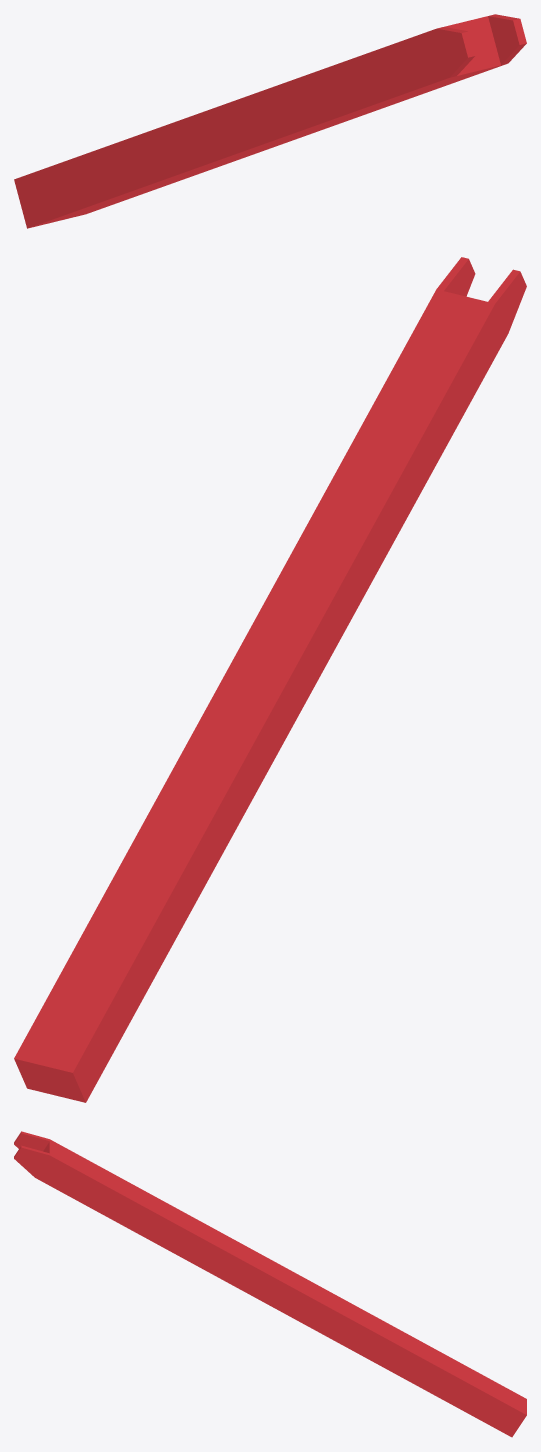
The model's file is crane-docks-arm-back.glb.
The picture shows the model from 3 angles, top to bottom: view 1: azimuth 30°, elevation 25°; view 2: azimuth 150°, elevation 25°; view 3: azimuth 270°, elevation 25°; orthographic projection. The views are drawn at different scales.
Parts seen in each view (by area): view 1: crane-docks-arm-back; view 2: crane-docks-arm-back; view 3: crane-docks-arm-back.
Boxes of the visible parts, x1,y1,x2,y2 form: crane-docks-arm-back: (14, 14, 526, 228); crane-docks-arm-back: (14, 257, 526, 1102); crane-docks-arm-back: (14, 1131, 526, 1437).
Bounding box in the file's own units: 0.8 × 6.67 × 10.69.
1 material, 1 textured.
